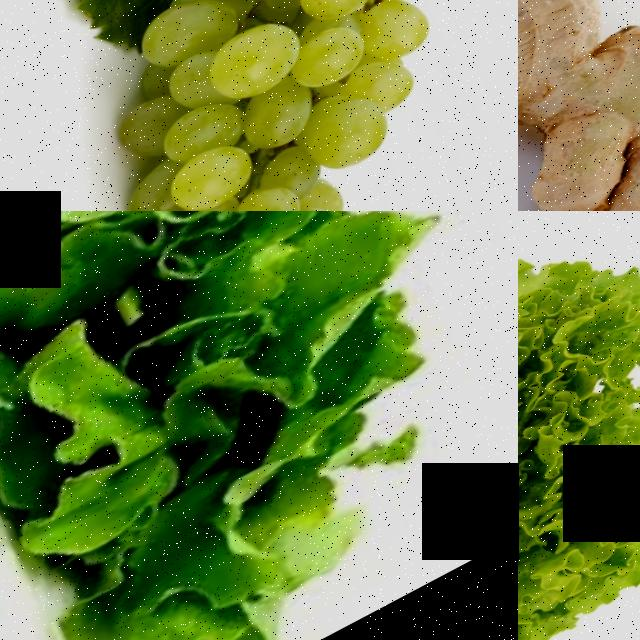ginger: (518, 0, 640, 211), (518, 95, 640, 211)
grapes: (0, 0, 518, 211)
lettuce: (0, 211, 518, 640), (518, 211, 640, 640)
